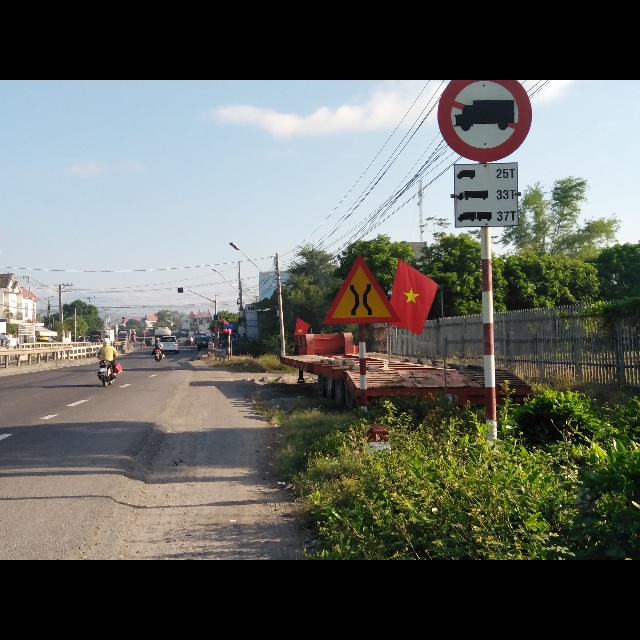Cấm xe tải: (436, 79, 532, 163)
Cầu hẹp: (320, 252, 399, 326)
